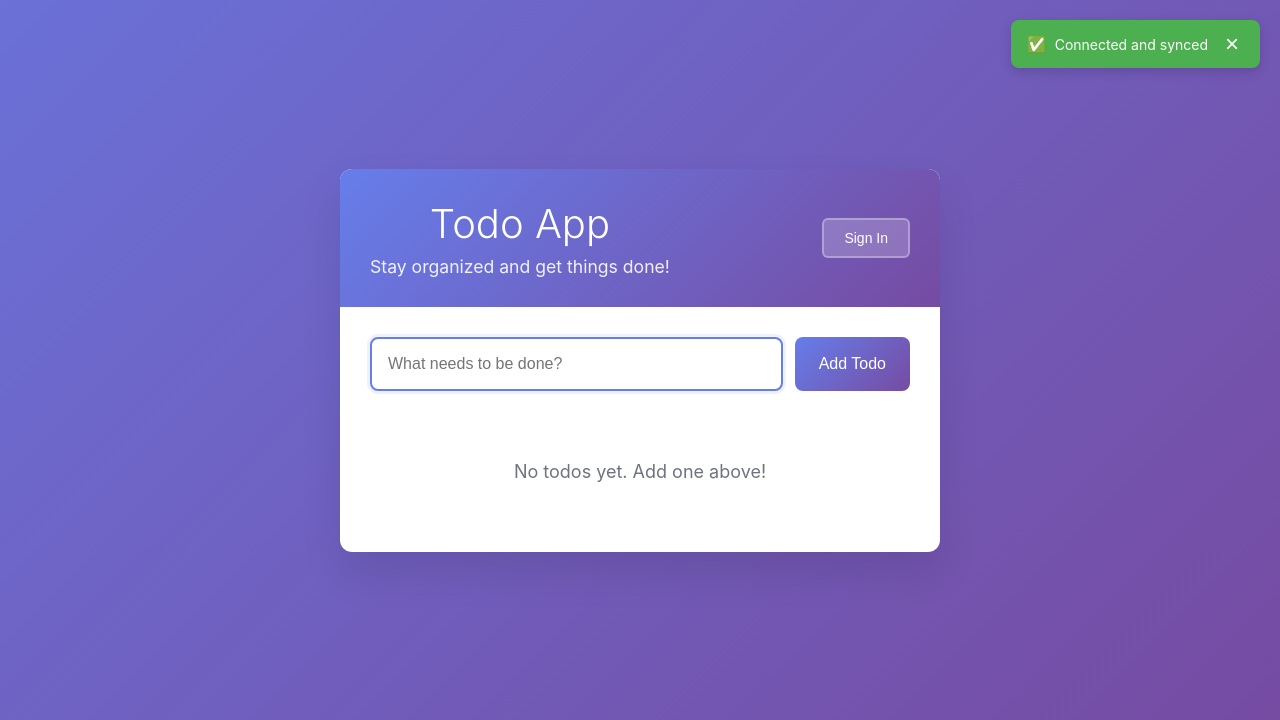
App Component › adds a new todo
(page scrolled)
Type "New todo item" into the field with placeholder "What needs to be done?" at [576, 364], box [370,336,783,390]
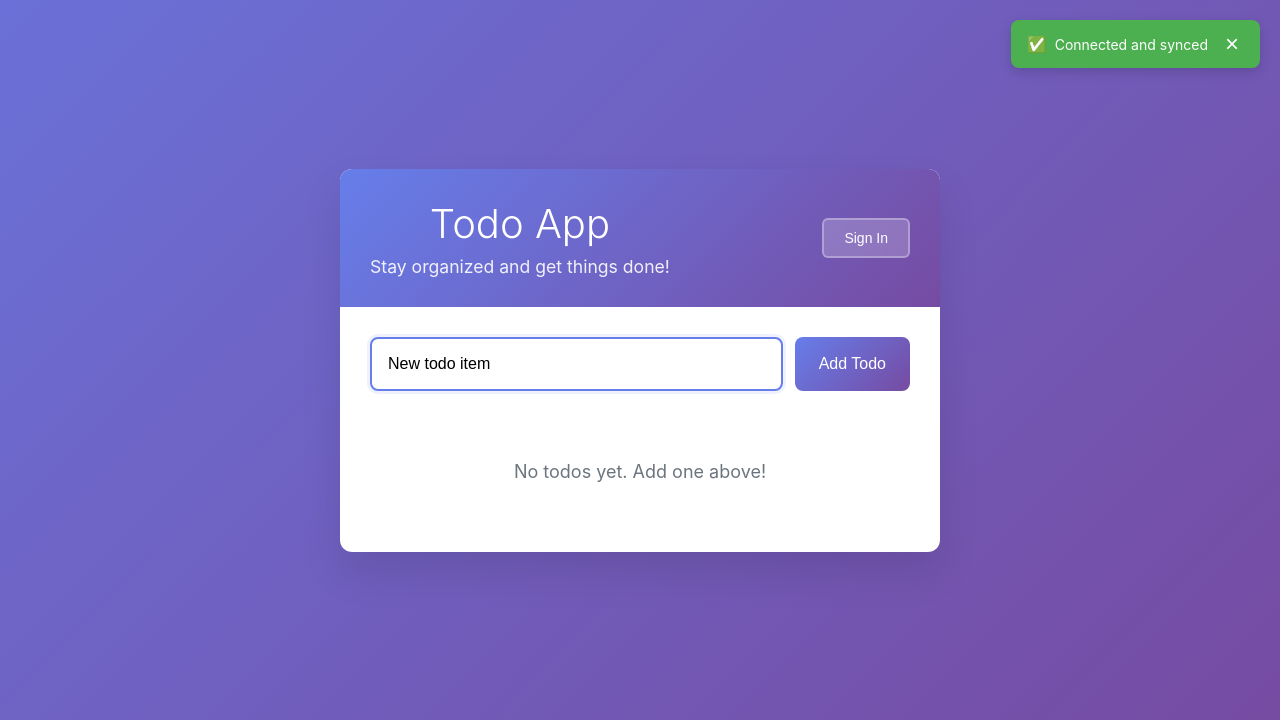
Click the button "Add Todo" at [852, 364], box [795,336,910,390]
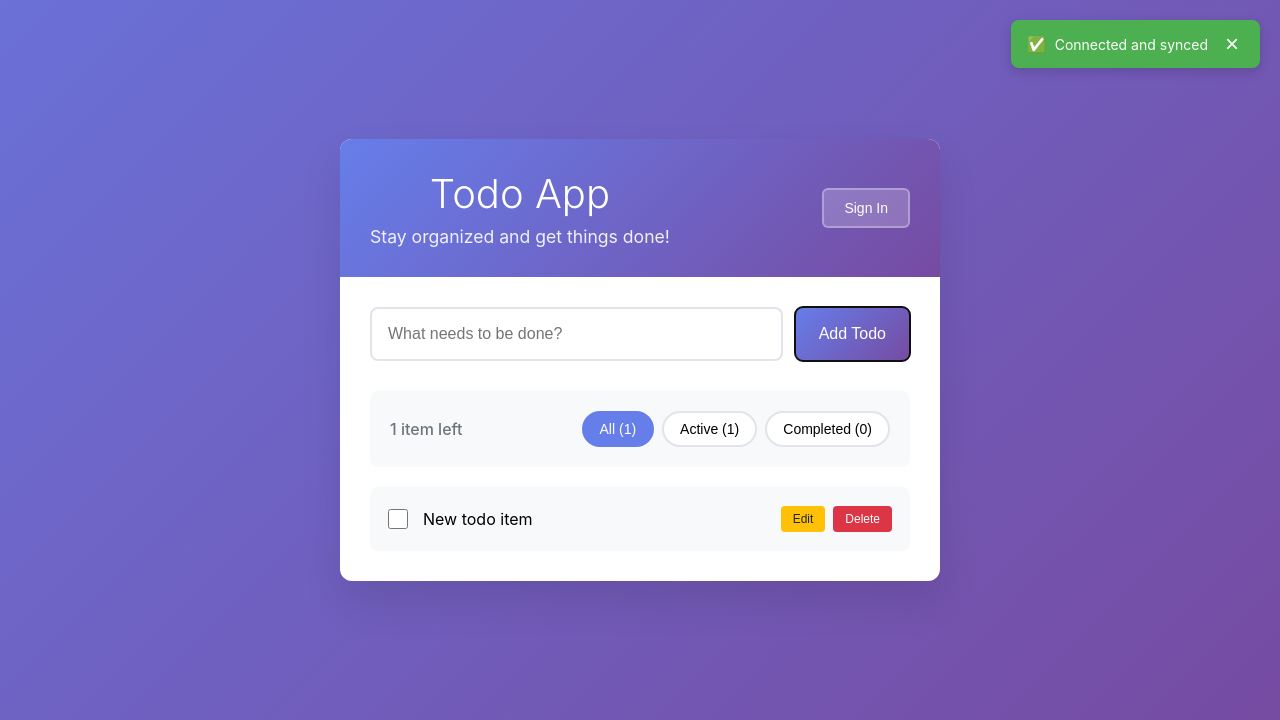
Check: the text "New todo item" is shown, box [423,509,532,529]
